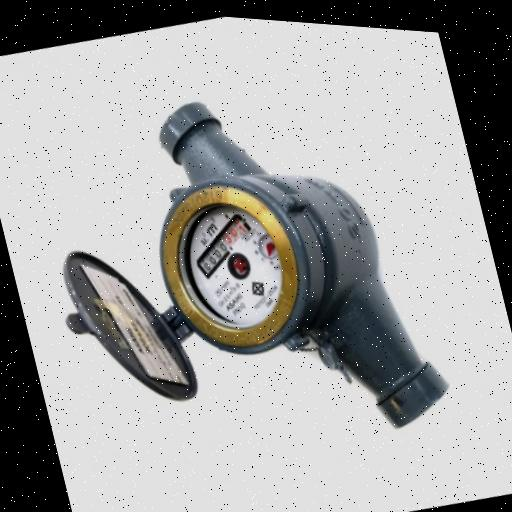0: (224, 222, 245, 245), (196, 255, 216, 276), (215, 235, 233, 256), (203, 248, 221, 268), (208, 242, 226, 262)
1: (230, 216, 250, 237)
3: (220, 229, 238, 250)
border_water_meter_number: (182, 205, 264, 287)
